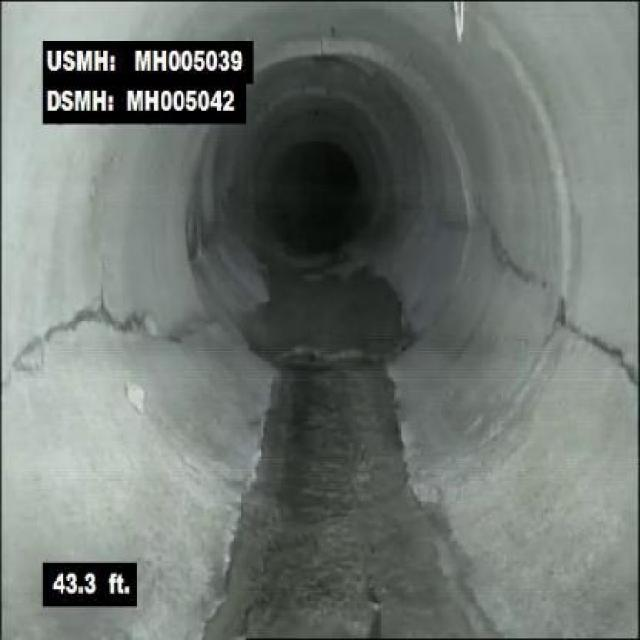Crack: (8, 303, 108, 368), (561, 316, 634, 386), (483, 224, 559, 290), (355, 572, 397, 638), (111, 305, 177, 343)
